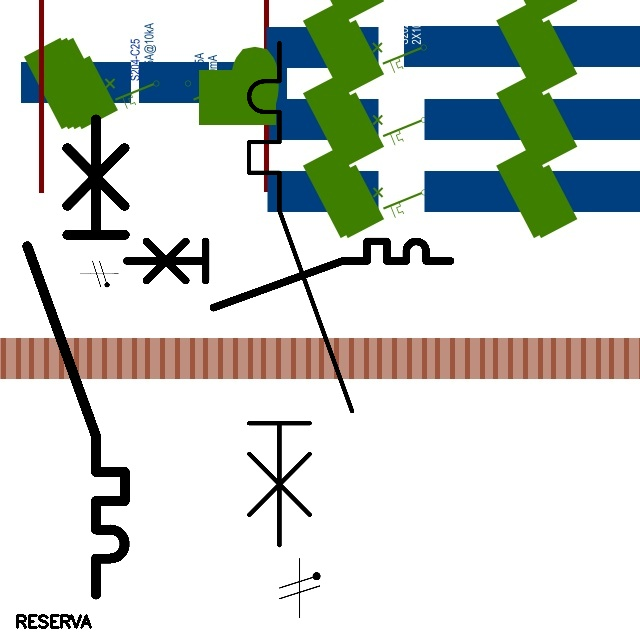interruptor_termomagnetico: (236, 30, 365, 558), (15, 107, 137, 607), (118, 233, 459, 316)
